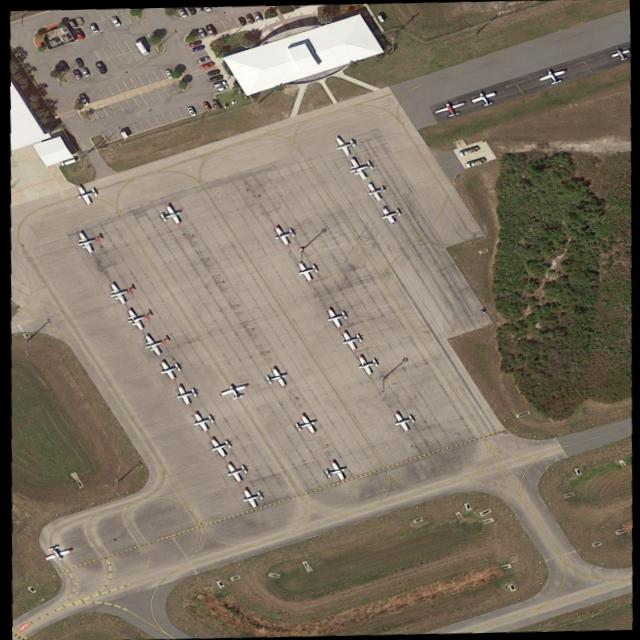large-vehicle: (463, 156, 486, 170), (132, 38, 149, 55), (456, 145, 479, 157), (58, 157, 76, 167)
plane: (137, 331, 172, 358), (342, 155, 377, 182), (429, 98, 468, 120), (70, 229, 102, 255), (119, 307, 152, 332), (234, 486, 267, 511), (103, 280, 134, 306), (153, 203, 186, 227), (70, 182, 101, 207), (387, 409, 419, 433), (328, 133, 360, 157), (219, 460, 252, 483), (214, 381, 250, 402), (532, 66, 566, 88), (153, 358, 184, 382), (319, 459, 350, 483), (351, 353, 382, 377), (289, 413, 319, 437), (204, 436, 234, 460), (187, 410, 217, 434), (169, 383, 199, 407), (260, 366, 290, 390), (336, 328, 366, 352), (38, 542, 72, 563), (467, 88, 500, 109), (291, 259, 321, 282), (320, 306, 350, 328), (267, 224, 297, 246), (361, 180, 390, 202), (374, 204, 404, 225), (607, 47, 630, 64)
small-vehicle: (74, 92, 90, 106), (196, 60, 214, 71), (55, 58, 69, 72), (91, 60, 105, 74), (208, 78, 226, 88), (71, 55, 84, 68), (71, 28, 85, 40), (208, 98, 221, 110), (85, 23, 99, 34), (203, 68, 220, 77), (193, 55, 210, 64), (203, 24, 215, 36), (184, 105, 197, 116), (107, 16, 120, 27), (199, 100, 212, 111), (69, 69, 83, 79), (185, 39, 202, 47), (161, 68, 173, 79), (194, 27, 206, 38), (242, 14, 254, 25), (206, 74, 222, 82), (78, 66, 89, 77), (175, 8, 187, 17), (250, 12, 262, 21), (373, 13, 383, 23), (234, 16, 245, 25), (215, 84, 227, 92), (190, 44, 203, 51)
